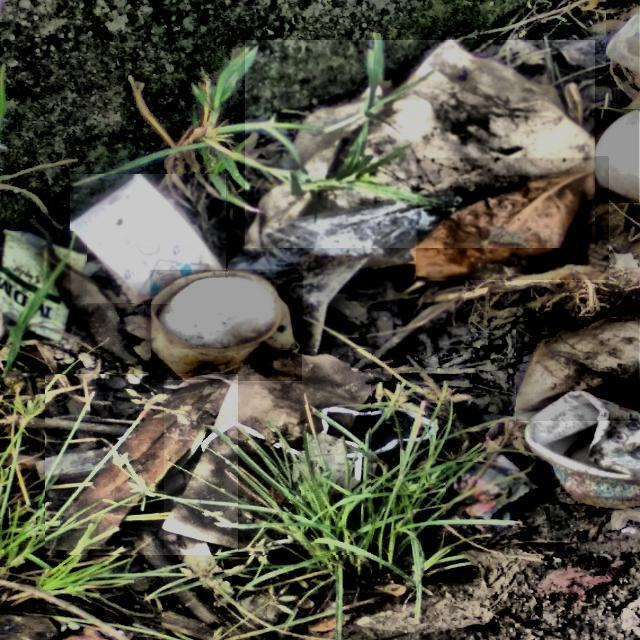anorganik: (228, 193, 464, 352), (71, 175, 225, 303), (152, 270, 302, 382), (0, 231, 87, 343), (446, 462, 540, 518), (594, 110, 638, 202), (607, 3, 638, 75)
organik: (245, 40, 595, 248), (166, 350, 370, 555), (45, 374, 238, 554), (416, 158, 609, 279), (517, 317, 638, 420)
